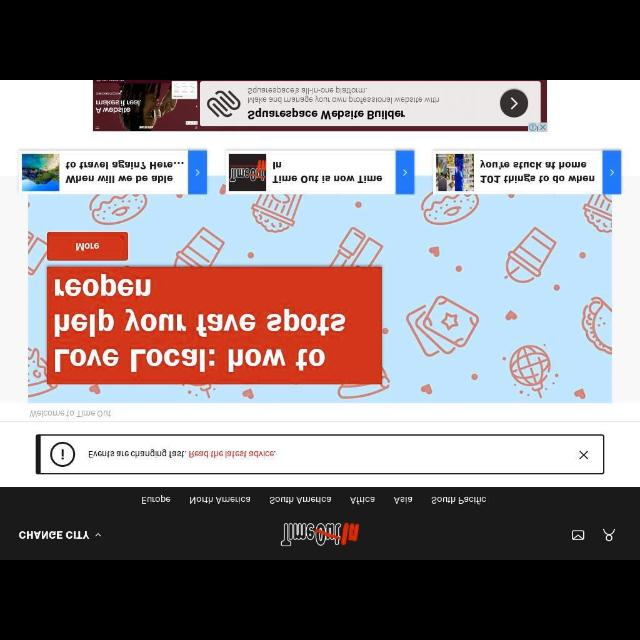icon: (602, 528, 616, 542), (570, 530, 586, 540), (579, 450, 589, 460), (195, 168, 201, 178), (609, 168, 615, 178), (94, 532, 102, 538), (402, 169, 408, 177)
iframe: (93, 81, 547, 131)
image: (28, 193, 612, 403), (280, 522, 360, 548), (436, 152, 474, 192), (22, 154, 60, 192), (230, 154, 266, 192), (50, 442, 76, 466)
multitab: (140, 496, 486, 504)
spinner: (18, 530, 102, 540)
text: (480, 158, 594, 184), (64, 160, 186, 184), (272, 162, 382, 184), (89, 448, 278, 458), (29, 409, 113, 418), (19, 530, 90, 540), (268, 495, 332, 505), (189, 495, 251, 505), (431, 496, 487, 504), (142, 495, 170, 505), (348, 496, 376, 504), (393, 496, 413, 504)
